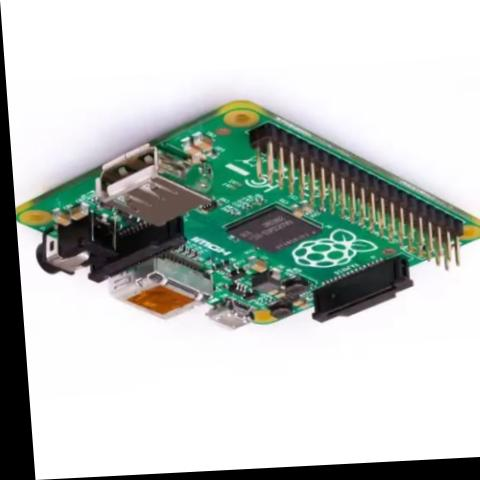Raspberry-Pi-1-Model-A-: (6, 77, 480, 352)
